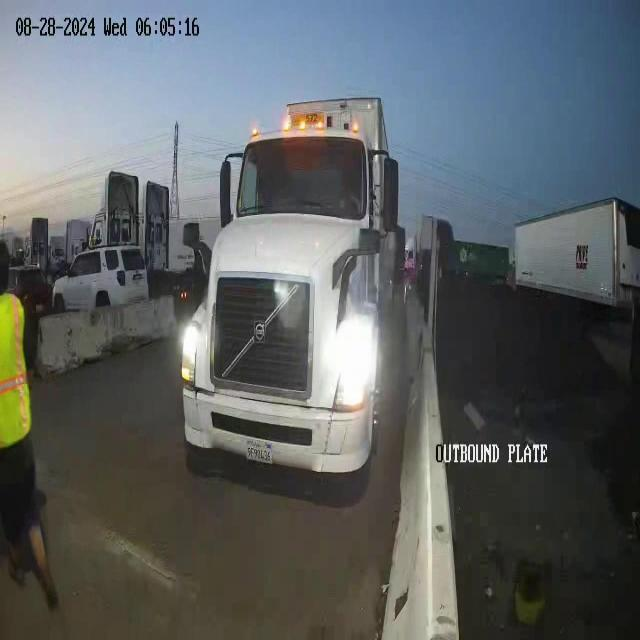TRUCK_OUT: (177, 91, 406, 489)
